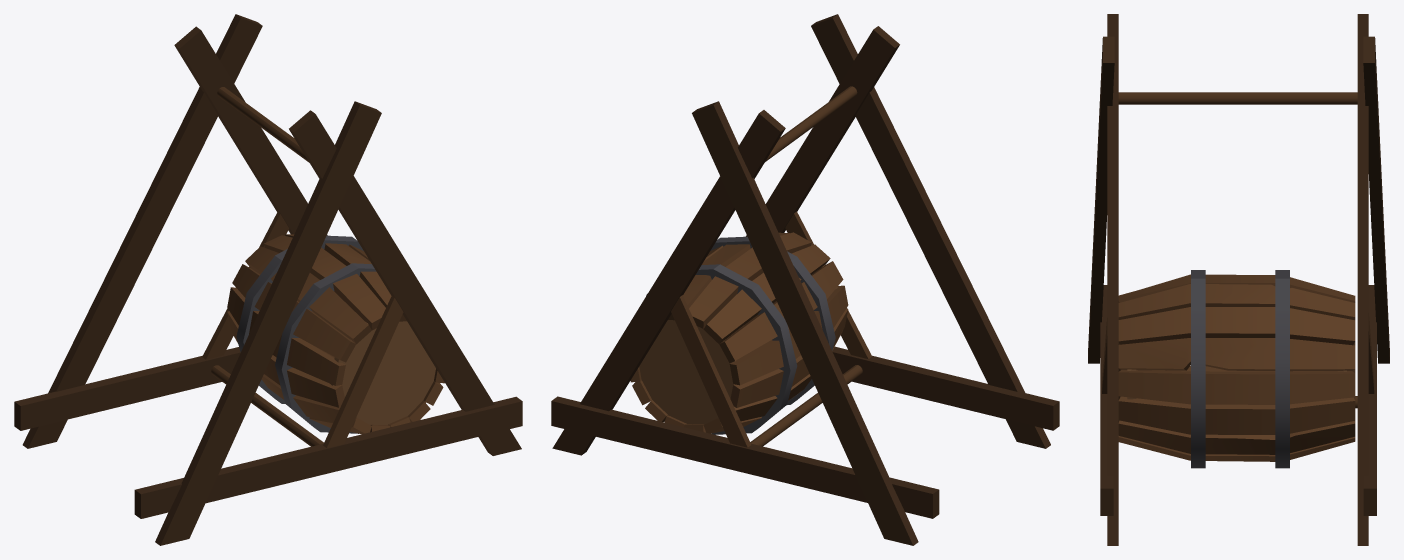
File: stand_with_barrels2.fbx
3 views of the same model, side by side, from view 1: azimuth 30°, elevation 25°; view 2: azimuth 150°, elevation 25°; view 3: azimuth 270°, elevation 25° (orthographic). The views are drawn at different scales.
Parts seen in each view (by area): view 1: stand_with_barrels2; view 2: stand_with_barrels2; view 3: stand_with_barrels2.
Boxes of the visible parts, x1,y1,x2,y2 form: stand_with_barrels2: [14, 14, 522, 545]; stand_with_barrels2: [551, 14, 1059, 545]; stand_with_barrels2: [1088, 14, 1389, 545].
Bounding box in the file's own units: 367 × 352 × 228.
